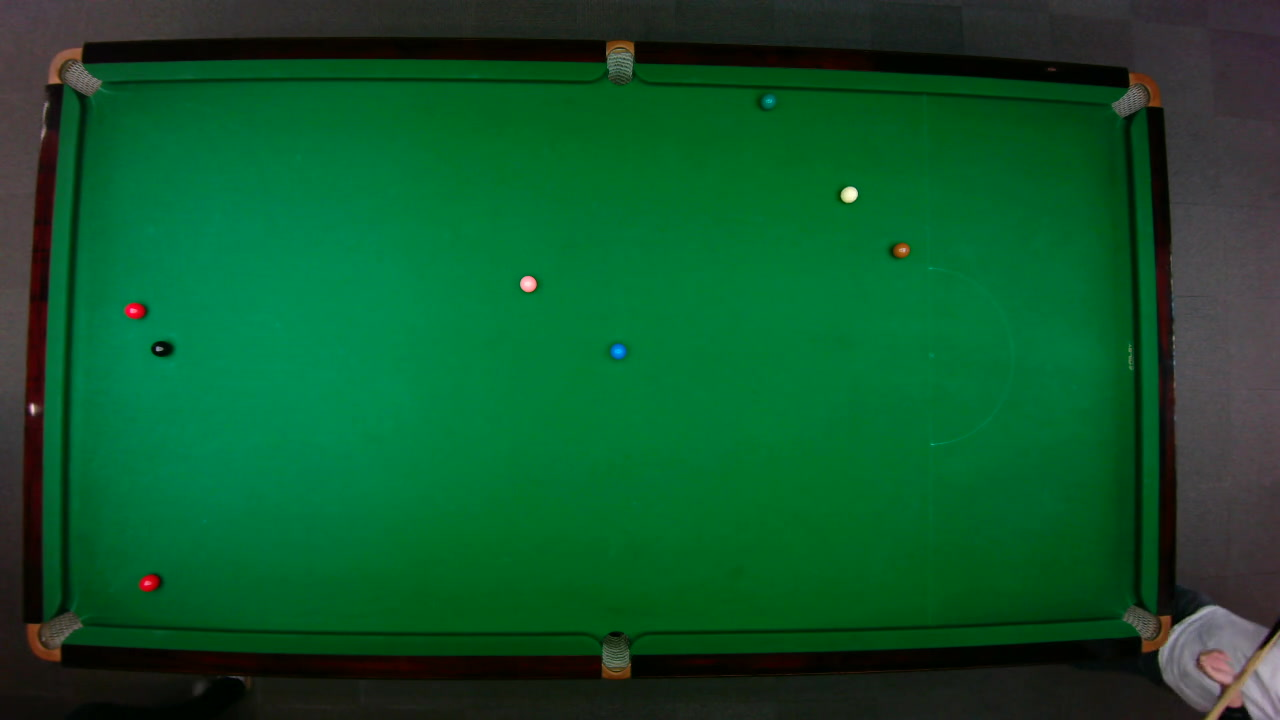bag: (25, 609, 83, 662), (45, 46, 102, 97), (1119, 603, 1172, 651), (1108, 71, 1161, 118), (600, 629, 629, 680), (605, 38, 633, 86)
black: (149, 339, 171, 357)
blue: (608, 342, 626, 359)
brown: (890, 241, 911, 258)
green: (759, 92, 776, 110)
pink: (518, 274, 537, 293)
red: (137, 572, 161, 592), (123, 301, 146, 319)
white: (838, 184, 858, 203)
zone: (927, 265, 1013, 445)
